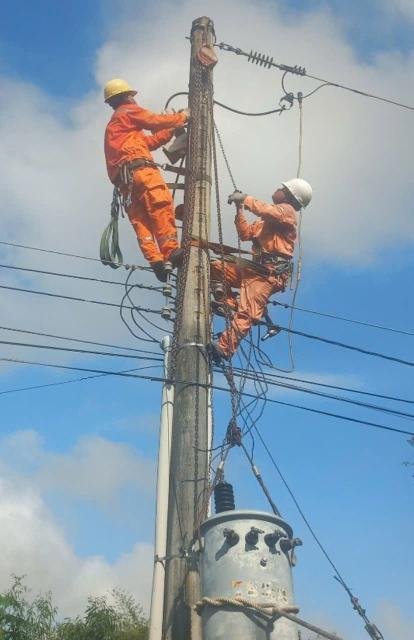gloves: (228, 183, 245, 209), (229, 190, 248, 207), (180, 106, 195, 122)
harness: (101, 157, 186, 178), (247, 250, 299, 282)
helmet: (283, 175, 320, 210), (96, 77, 137, 101)
shoes: (207, 339, 229, 365), (152, 259, 171, 287), (167, 244, 188, 266)
